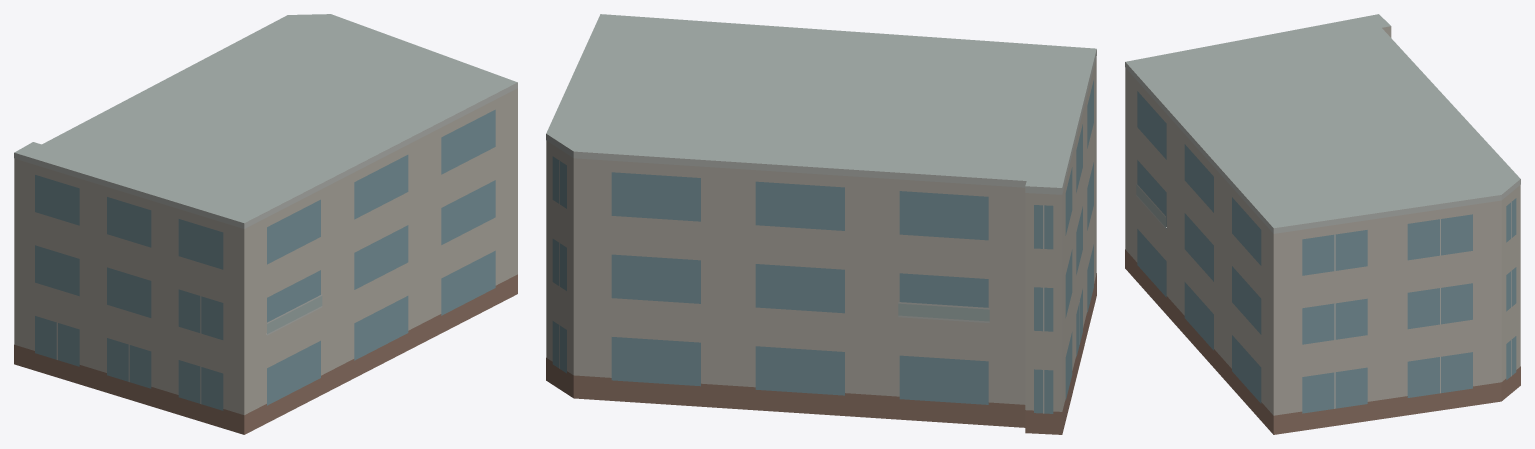
File: survey-upis-32970488.glb
3 renders of one model, left to right at view 1: azimuth 30°, elevation 25°; view 2: azimuth 150°, elevation 25°; view 3: azimuth 270°, elevation 25°, orthographic. The views are drawn at different scales.
Parts seen in each view (by area): view 1: survey-upis-32970488.tmp; view 2: survey-upis-32970488.tmp; view 3: survey-upis-32970488.tmp.
Part boxes in pixels (x1=…): survey-upis-32970488.tmp: x1=14, y1=14, x2=517, y2=434; survey-upis-32970488.tmp: x1=546, y1=14, x2=1096, y2=434; survey-upis-32970488.tmp: x1=1125, y1=14, x2=1520, y2=434.
Bounding box in the file's own units: 19.85 × 8.92 × 15.49.
